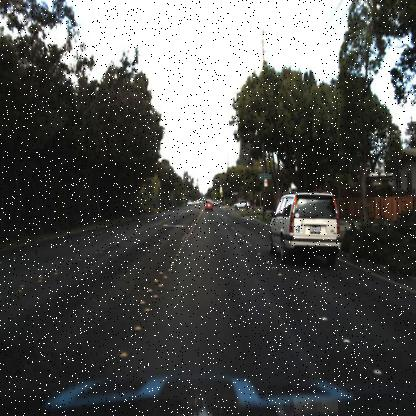car: (266, 184, 345, 274), (232, 194, 252, 212), (202, 192, 216, 216)
